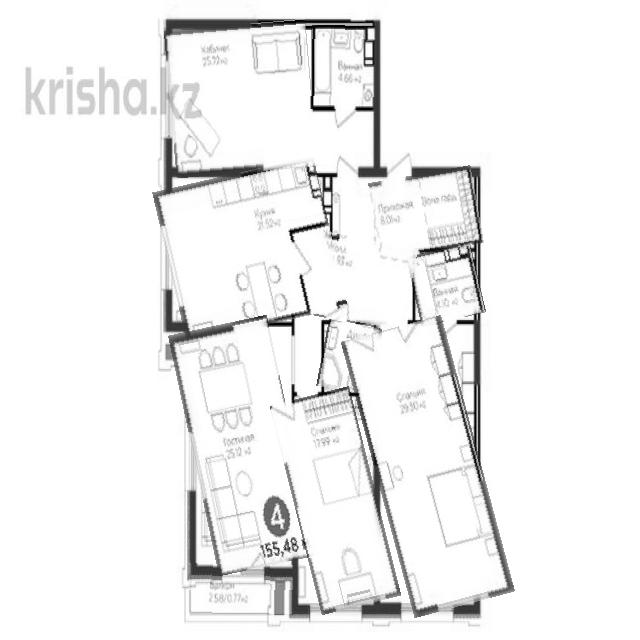balcony: (188, 564, 293, 615)
bathroom: (311, 26, 378, 110), (410, 246, 482, 324), (319, 322, 380, 394)
hallway: (288, 232, 415, 327), (371, 169, 481, 256)
kitchen: (152, 160, 328, 343)
living_room: (359, 320, 498, 614), (180, 319, 305, 573), (283, 390, 389, 612), (167, 22, 315, 176)
